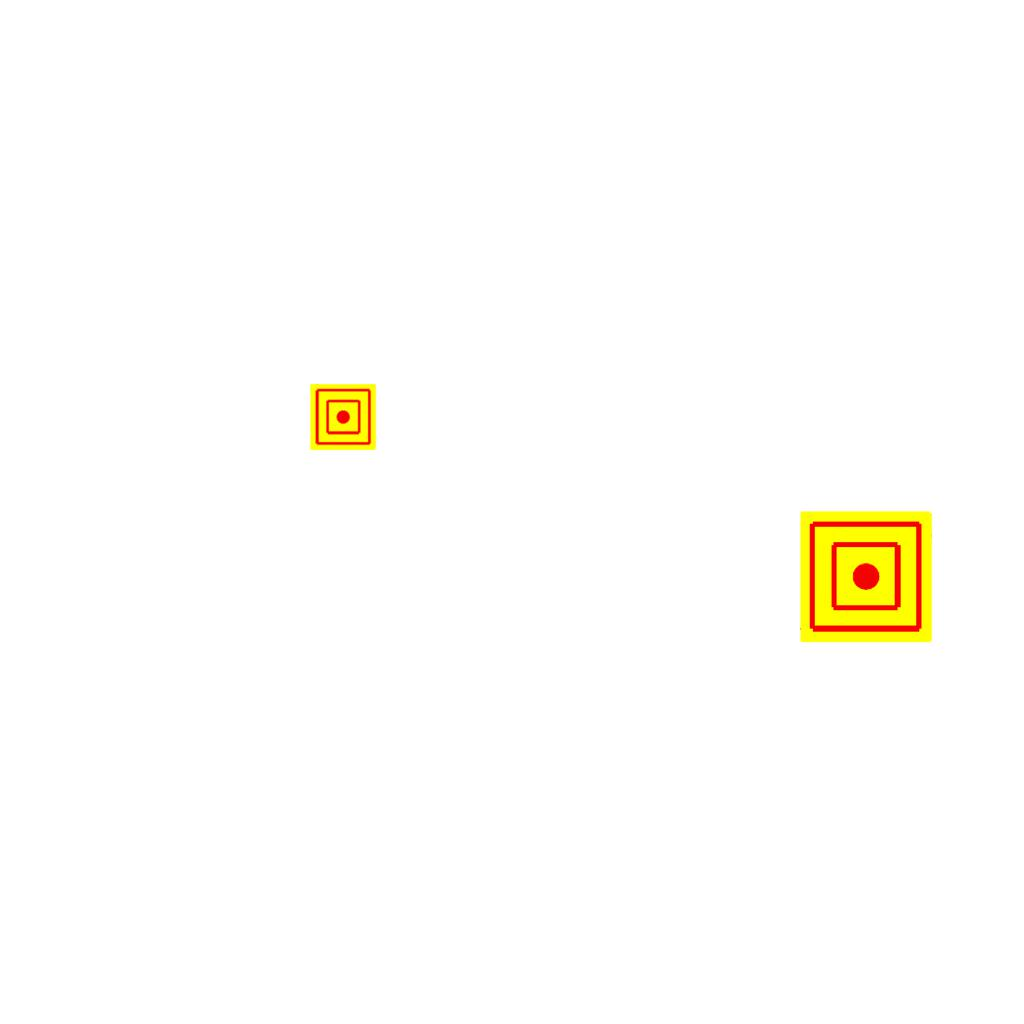NAM-Nichtautomatischer_Melder: (800, 511, 932, 643), (310, 384, 376, 450)
